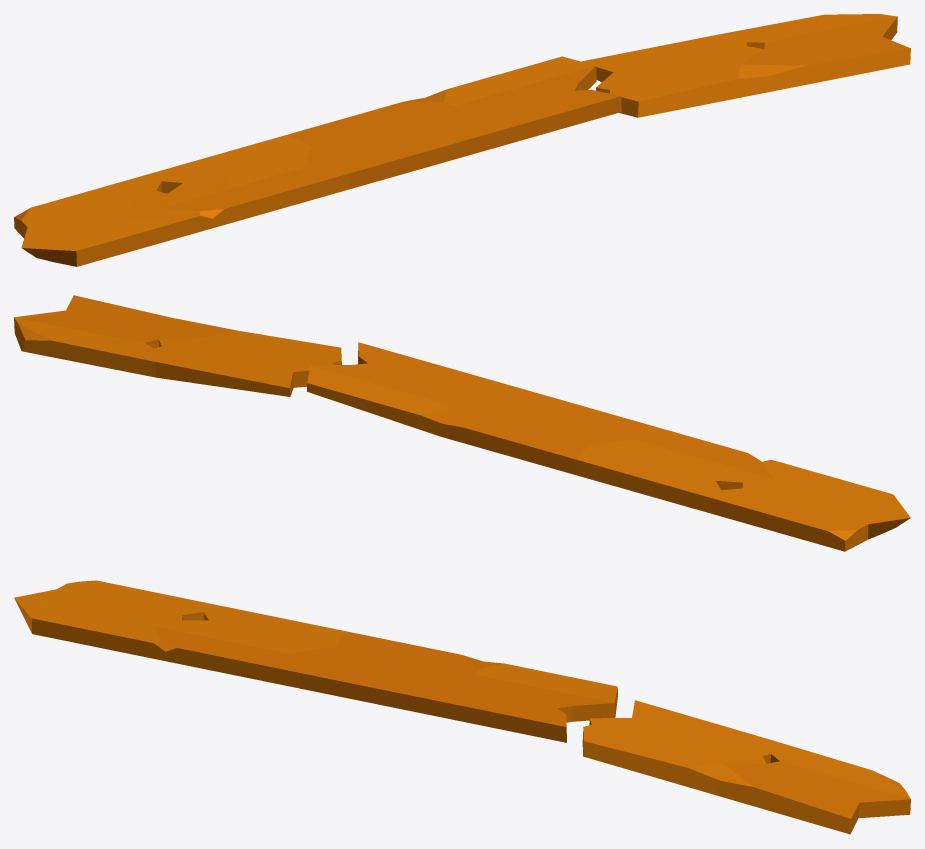
The model's file is Rotten and broken wood_9.fbx.
3 renders of one model, top to bottom at view 1: azimuth 30°, elevation 25°; view 2: azimuth 150°, elevation 25°; view 3: azimuth 330°, elevation 25°, orthographic.
Visible parts, largest first — view 1: Cube.092, Cube.088; view 2: Cube.092, Cube.088; view 3: Cube.092, Cube.088.
Part boxes in pixels (x1=…): Cube.092: x1=14, y1=56, x2=621, y2=266; Cube.088: x1=581, y1=14, x2=910, y2=117; Cube.092: x1=307, y1=342, x2=910, y2=551; Cube.088: x1=14, y1=295, x2=341, y2=396; Cube.092: x1=14, y1=580, x2=617, y2=742; Cube.088: x1=582, y1=700, x2=910, y2=834.
Size of the model in its own units: 121 by 5.24 by 13.07.
